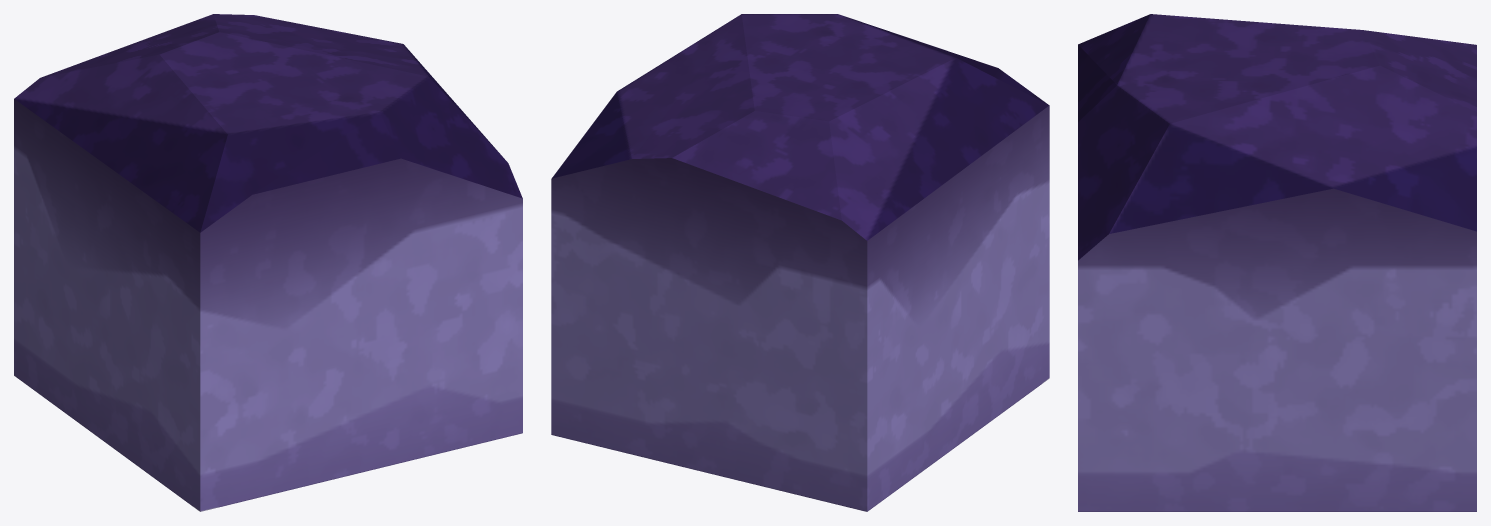
The model's file is Rock_03_003.fbx.
3 views of the same model, side by side, from view 1: azimuth 30°, elevation 25°; view 2: azimuth 150°, elevation 25°; view 3: azimuth 270°, elevation 25° (orthographic). The views are drawn at different scales.
Visible parts, largest first — view 1: Rock_03_003; view 2: Rock_03_003; view 3: Rock_03_003.
Boxes of the visible parts, x1,y1,x2,y2 form: Rock_03_003: (14,14,522,511); Rock_03_003: (551,14,1049,511); Rock_03_003: (1078,14,1476,511).
Bounding box in the file's own units: 2 × 2 × 2.
1 material, 1 textured.
